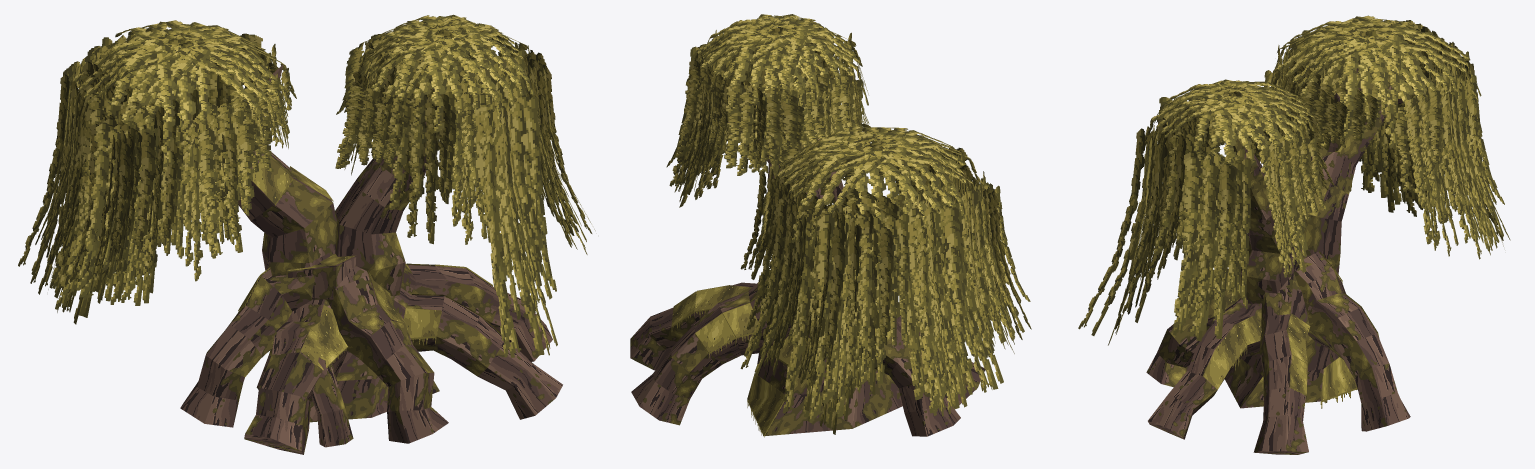
File: SM_SW09_DrownedWillowFork.fbx
3 renders of one model, left to right at view 1: azimuth 30°, elevation 25°; view 2: azimuth 150°, elevation 25°; view 3: azimuth 270°, elevation 25°, orthographic. The views are drawn at different scales.
Parts seen in each view (by area): view 1: SW09b_Plants, SW09b_Bark, SW09b_BarkMossy, SW09b_Moss; view 2: SW09b_Plants, SW09b_Bark, SW09b_BarkMossy, SW09b_Moss; view 3: SW09b_Plants, SW09b_Bark, SW09b_BarkMossy, SW09b_Moss.
Boxes of the visible parts, x1,y1,x2,y2 form: SW09b_Plants: (18, 14, 595, 370); SW09b_Bark: (180, 64, 562, 454); SW09b_BarkMossy: (206, 133, 499, 422); SW09b_Moss: (239, 68, 500, 369); SW09b_Plants: (666, 14, 1031, 437); SW09b_Bark: (630, 122, 985, 436); SW09b_BarkMossy: (671, 163, 926, 435); SW09b_Moss: (671, 70, 908, 434); SW09b_Plants: (1078, 15, 1510, 408); SW09b_Bark: (1146, 64, 1410, 454); SW09b_BarkMossy: (1167, 79, 1414, 408); SW09b_Moss: (1203, 77, 1390, 400).
Bounding box in the file's own units: 8.07 × 6.32 × 7.69.
